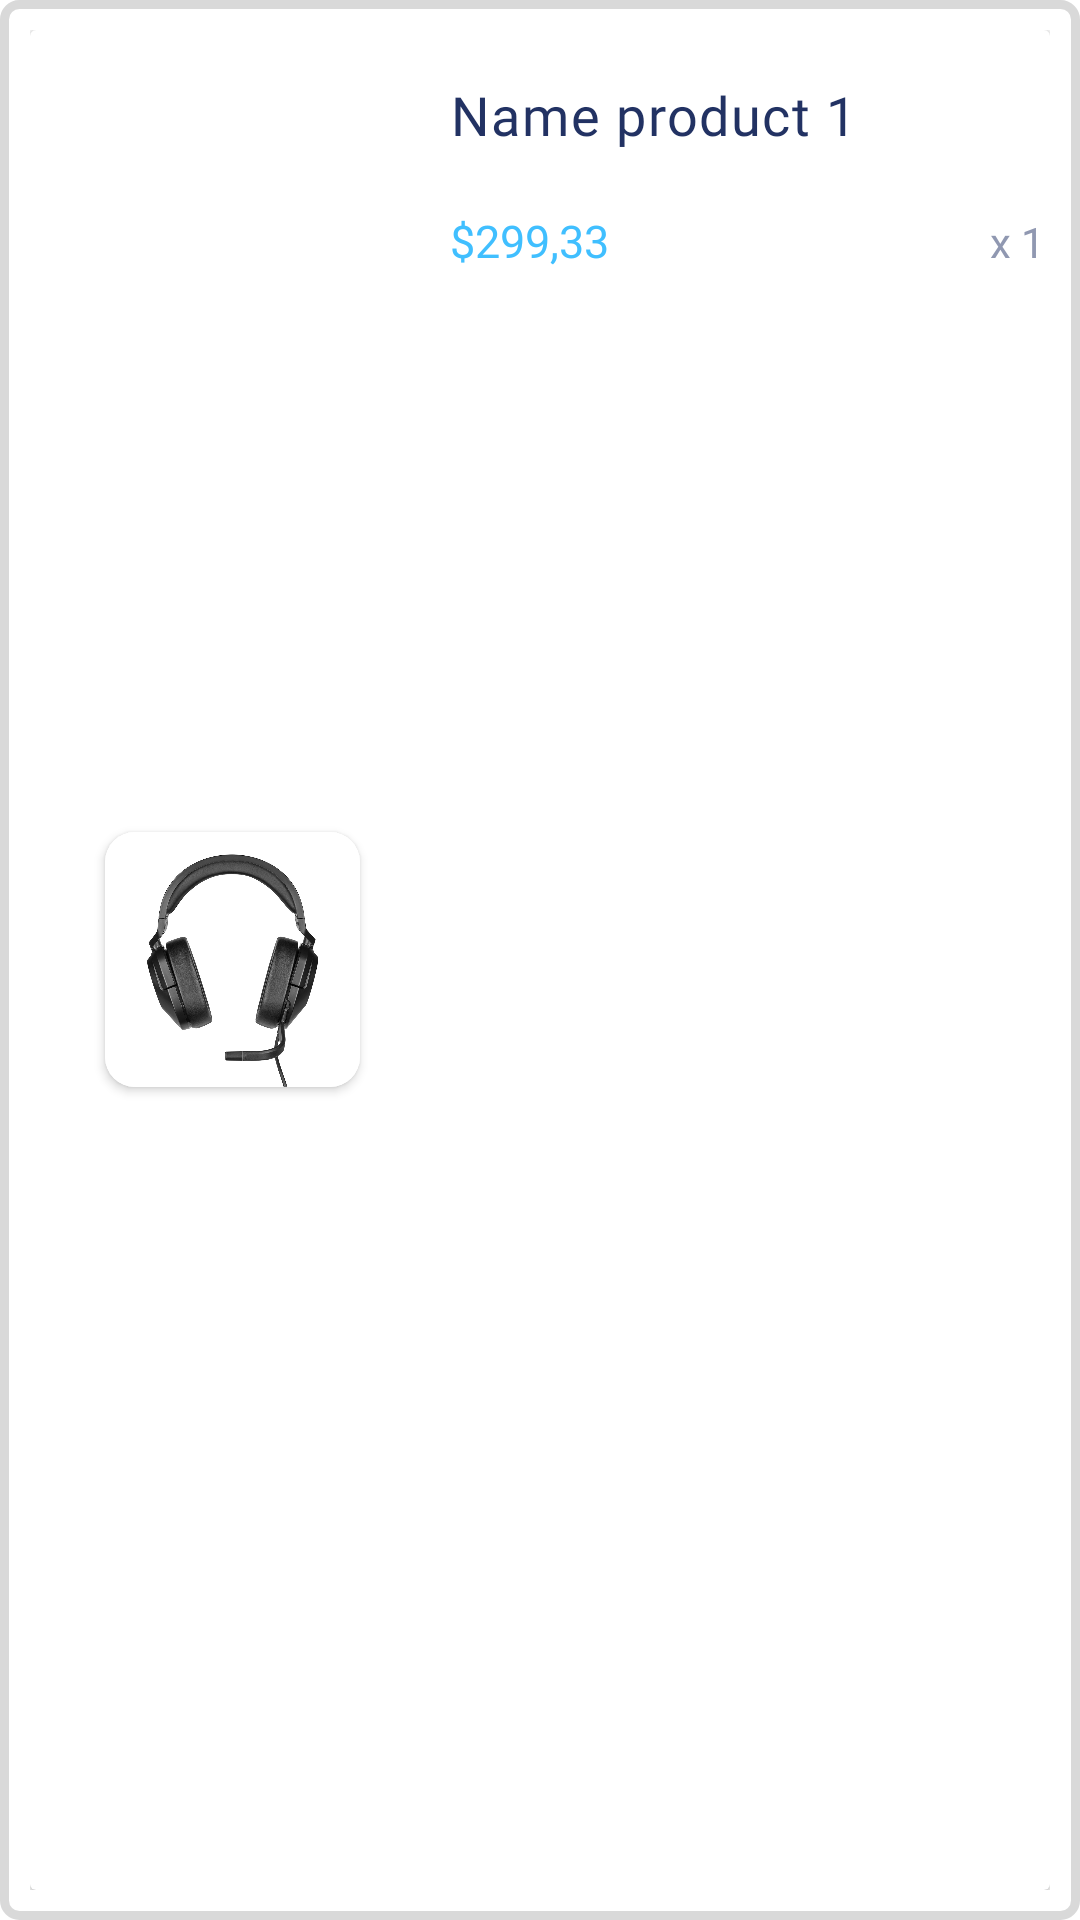

Named icons in this screenshot (1080*1920) and their centers, (x=x, y=y):
headphone product: (x=232, y=970)
